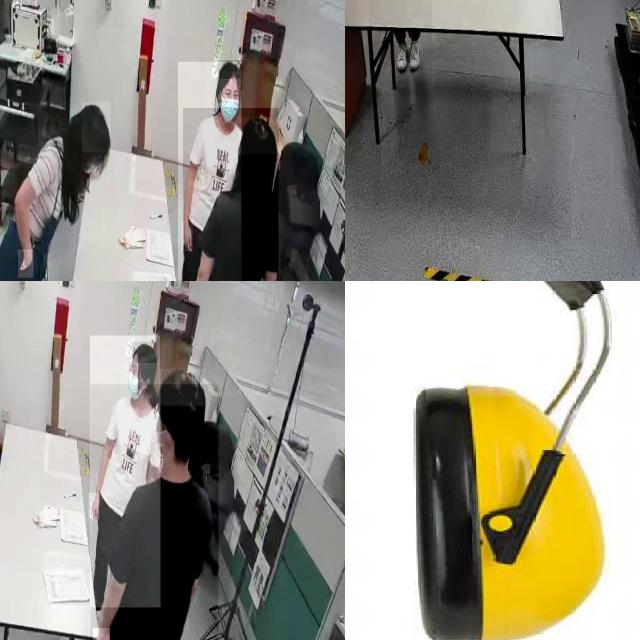Ear-protection: (345, 281, 609, 640)
face_mask: (221, 72, 241, 124), (124, 359, 140, 403)
hand_noglove: (18, 249, 34, 279), (182, 221, 194, 252), (88, 493, 100, 519), (92, 628, 110, 640)
head_nohelmet: (159, 369, 206, 407), (238, 117, 278, 155), (82, 102, 111, 153), (133, 342, 157, 364), (218, 60, 242, 80)
person: (90, 384, 219, 640), (0, 96, 105, 281), (90, 336, 160, 608), (183, 107, 279, 281), (178, 62, 241, 281), (369, 0, 432, 85)
shoes: (406, 28, 424, 71), (392, 34, 410, 72)
